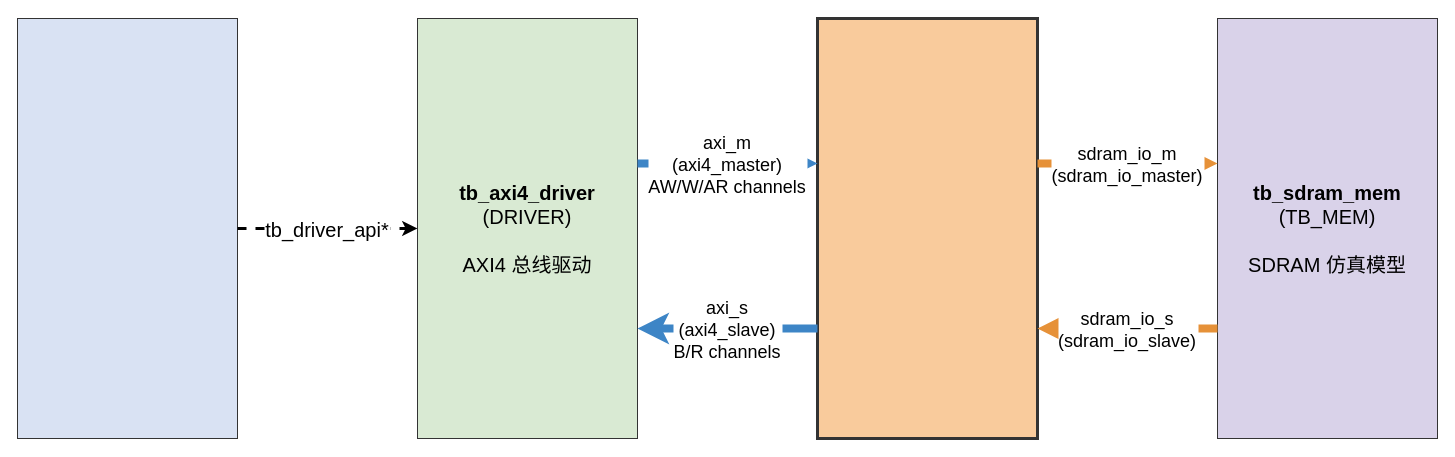
This 1455x457 diagram has some shape labels left out. The box of each missing label's shape, as (x1, y1, x2, y2) in pixels:
sdram_axi (DUT) SDRAM 控制器: (816, 16, 1038, 440)
tb_mem_test (SEQ) Sequencer / 测试激励: (16, 18, 238, 438)
